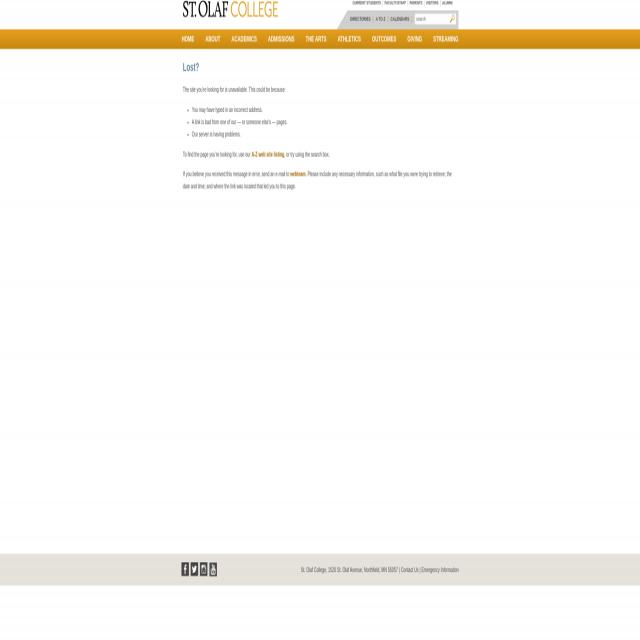field: (414, 14, 448, 26), (448, 14, 456, 26)
